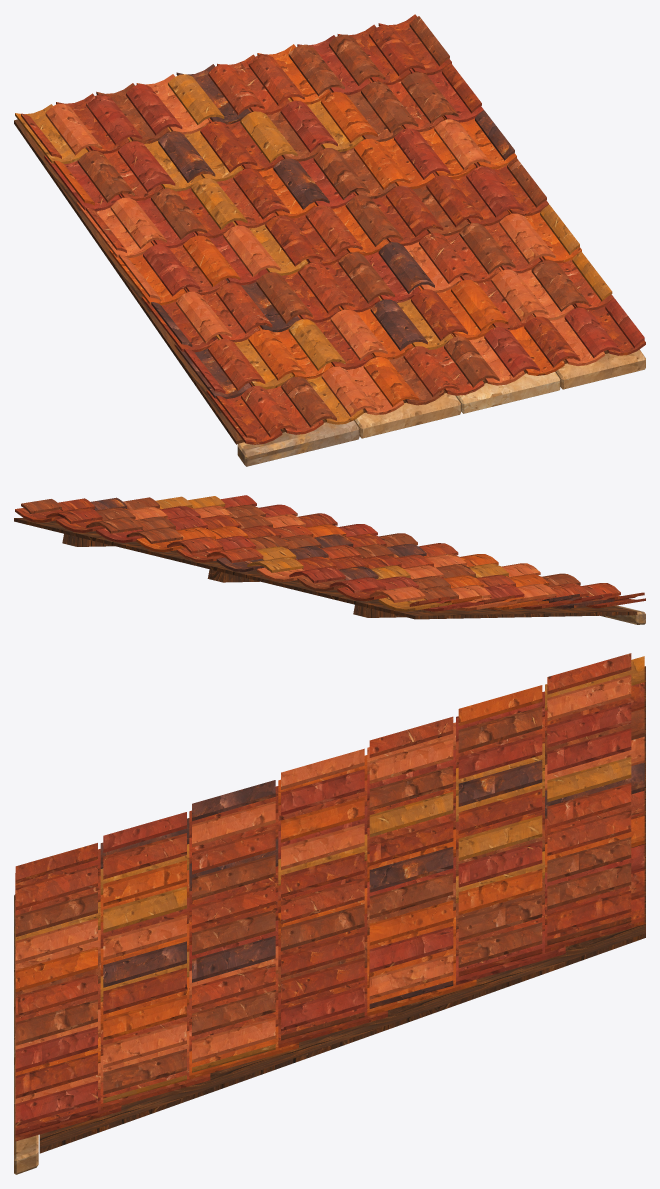
Rendered from roof_26__clay_brick.glb.
3 renders of one model, top to bottom at view 1: azimuth 30°, elevation 25°; view 2: azimuth 150°, elevation 25°; view 3: azimuth 270°, elevation 25°, orthographic. The views are drawn at different scales.
Visible parts, largest first — view 1: model; view 2: model; view 3: model.
Boxes of the visible parts, x1,y1,x2,y2 form: model: [14, 14, 645, 466]; model: [14, 495, 645, 624]; model: [14, 653, 645, 1174].
Bounding box in the file's own units: 1.99 × 0.8951 × 1.99.
Materials: 12 (12 with a texture image).
